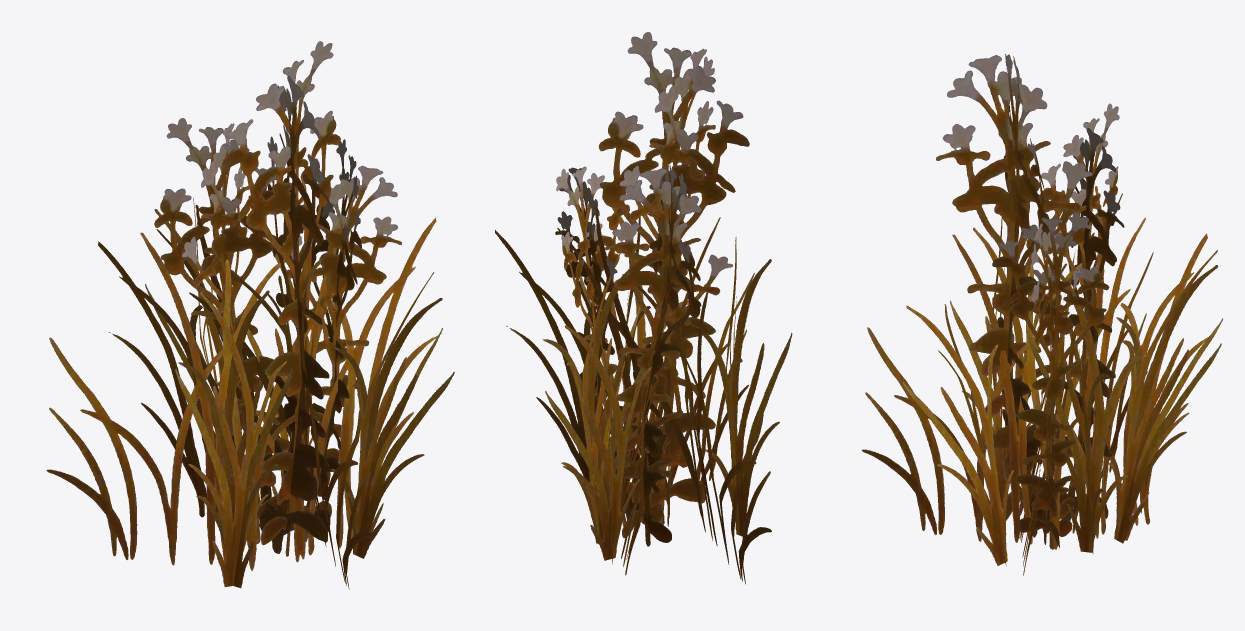
The picture shows the model from 3 angles, left to right: view 1: azimuth 30°, elevation 25°; view 2: azimuth 150°, elevation 25°; view 3: azimuth 270°, elevation 25°; orthographic projection. The views are drawn at different scales.
Parts seen in each view (by area): view 1: SM_HL_Grass_Long_01_E_LOD0; view 2: SM_HL_Grass_Long_01_E_LOD0; view 3: SM_HL_Grass_Long_01_E_LOD0.
Part boxes in pixels (x1,y1,x2,y2): SM_HL_Grass_Long_01_E_LOD0: (46, 41, 454, 589); SM_HL_Grass_Long_01_E_LOD0: (495, 32, 792, 584); SM_HL_Grass_Long_01_E_LOD0: (861, 54, 1222, 575).
Size of the model in its own units: 0.8025 by 1.1 by 0.7672.
Materials: 1 (1 with a texture image).
